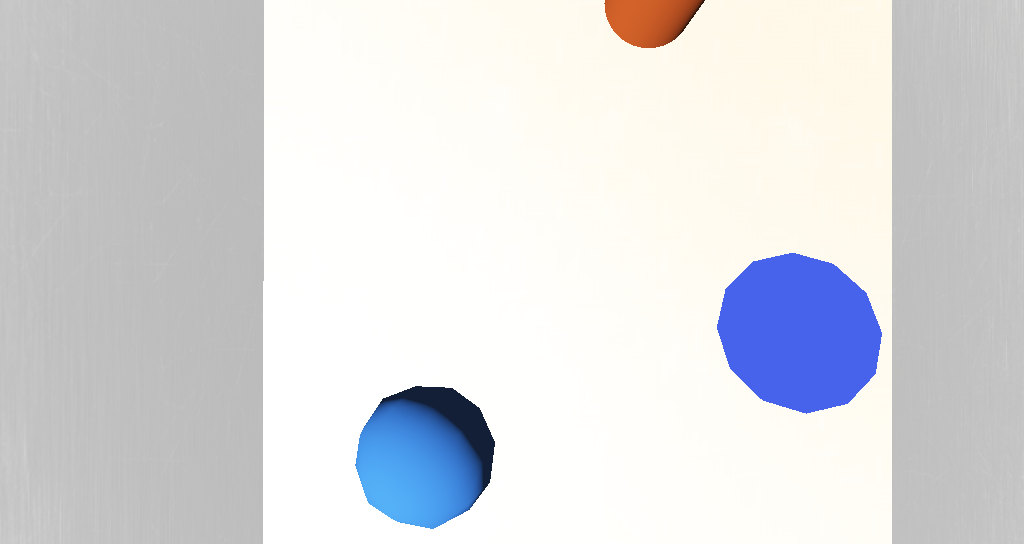cone: (522, 150, 569, 193)
cylinder: (556, 262, 630, 320)
sphere: (408, 308, 468, 351)
